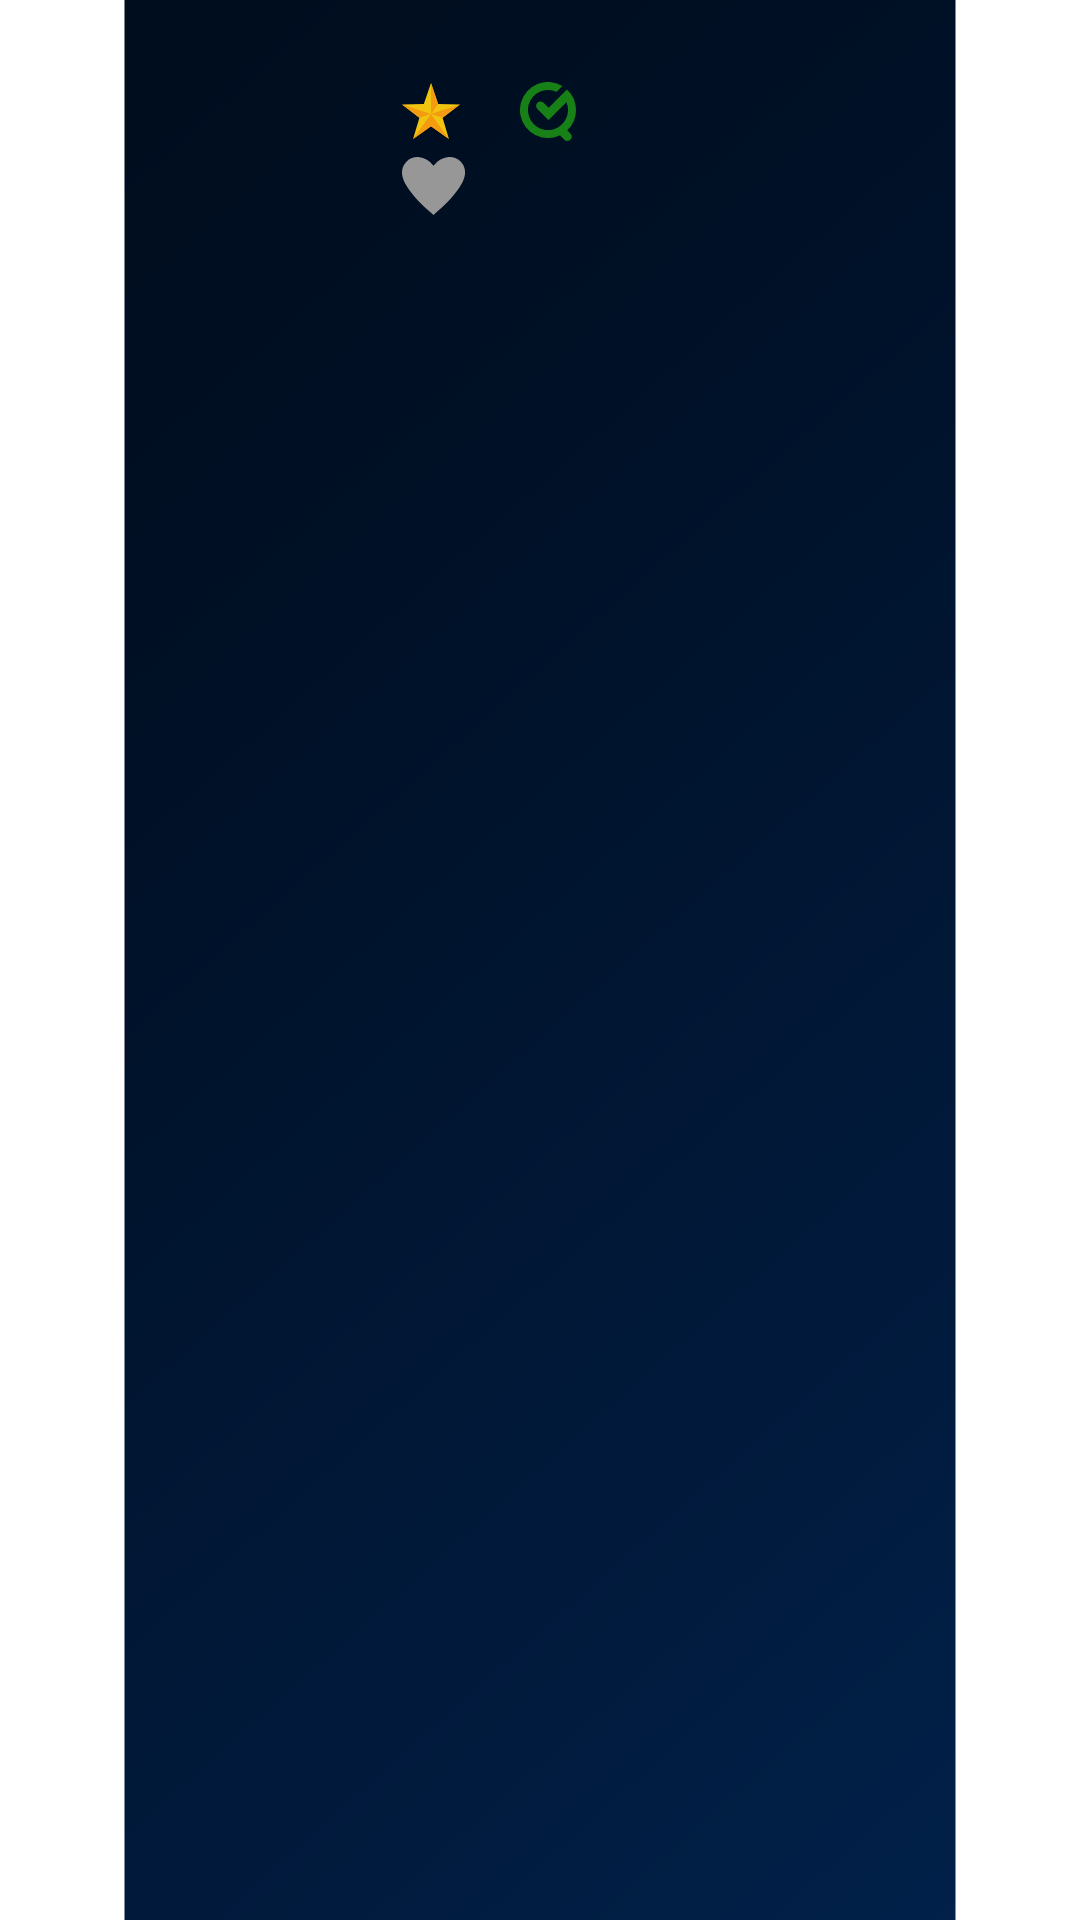

Where icons sit on this 1080x1920 app screen, as {"x1": x1, "y1": y1, "x2": x2, "y2": y2}:
Like: {"x1": 402, "y1": 157, "x2": 465, "y2": 215}
Rating: {"x1": 402, "y1": 83, "x2": 460, "y2": 139}
